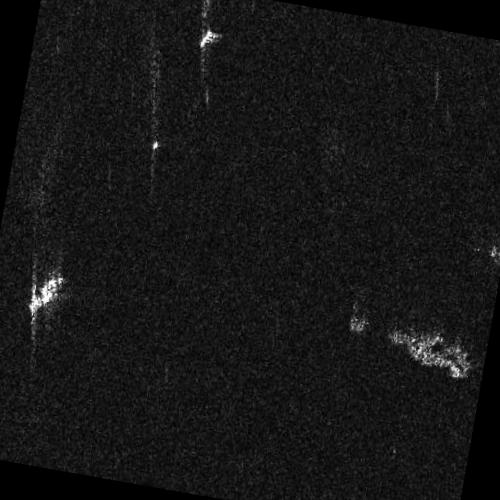ship: (25, 272, 65, 316), (199, 27, 215, 49)
